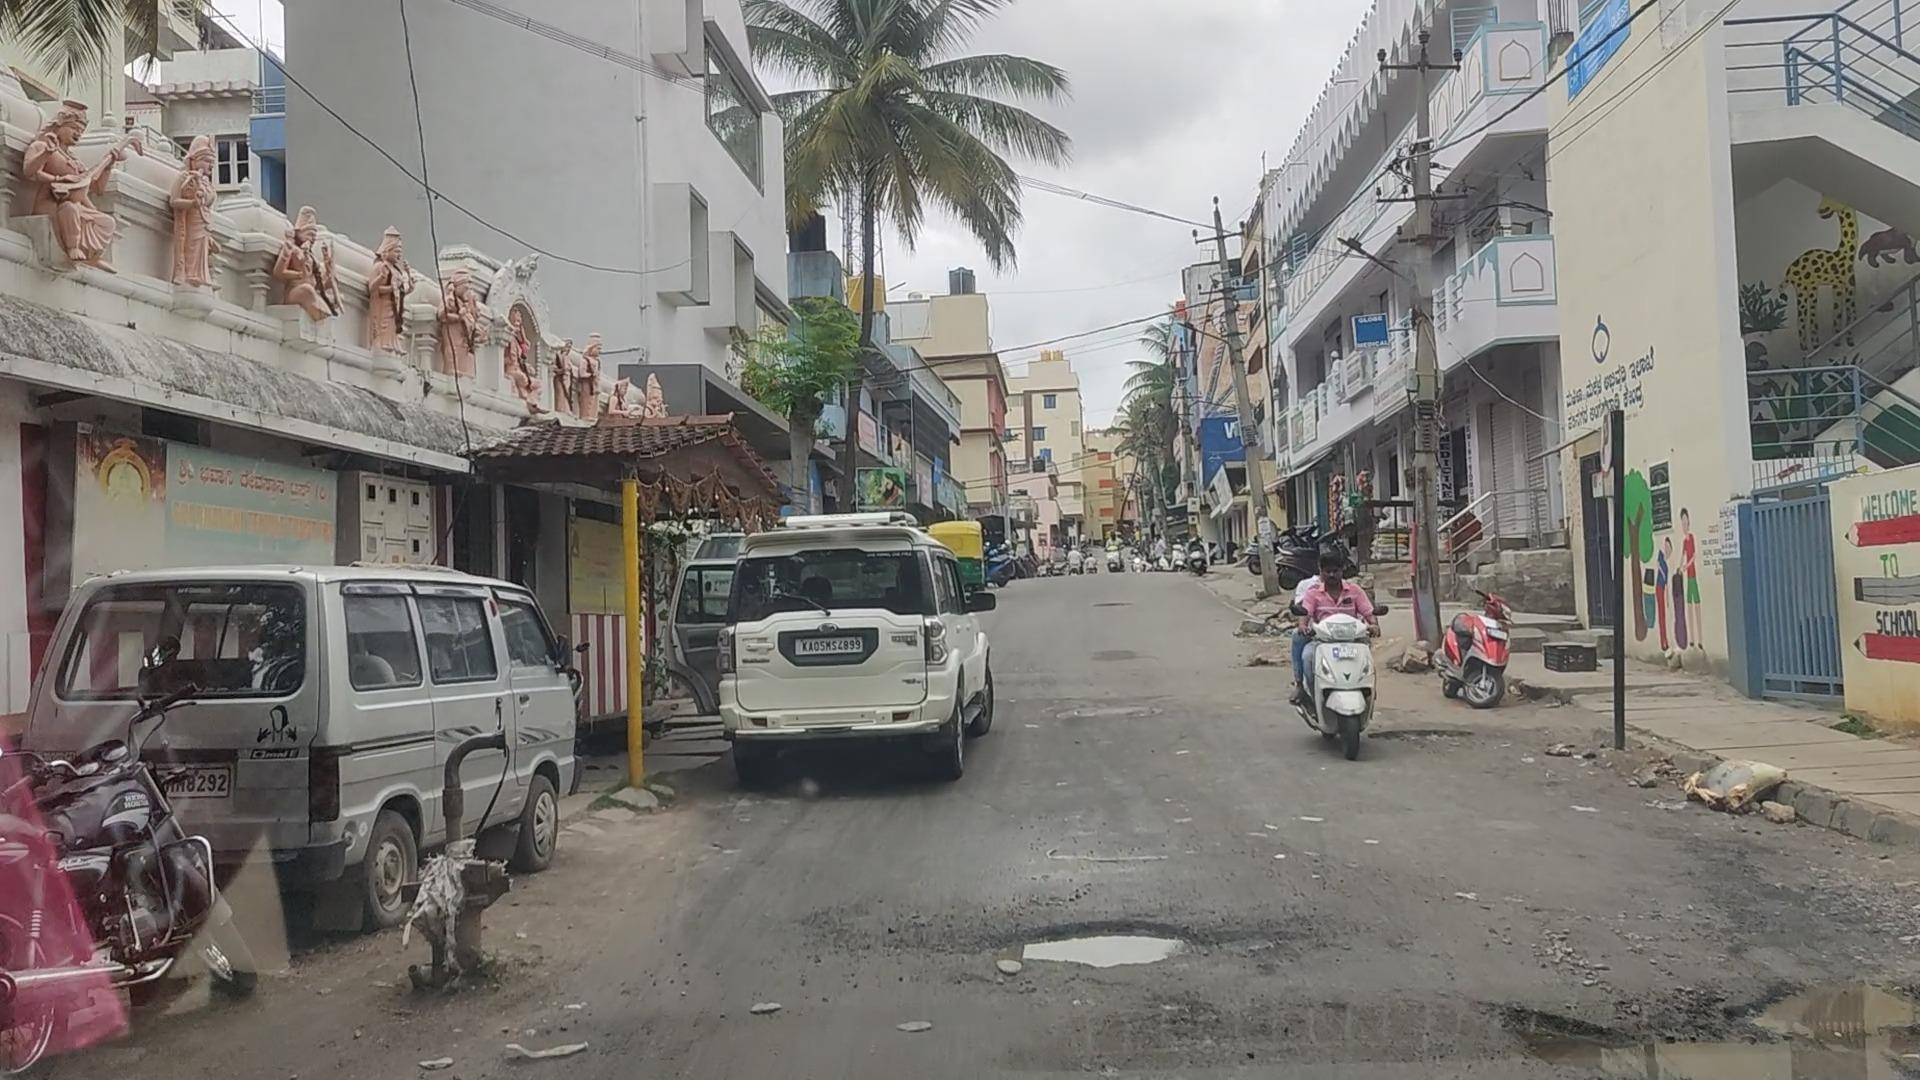LMV: (1296, 558, 1374, 756)
RoadDamages: (1535, 887, 1920, 1080), (951, 874, 1234, 993), (1377, 720, 1495, 750)
